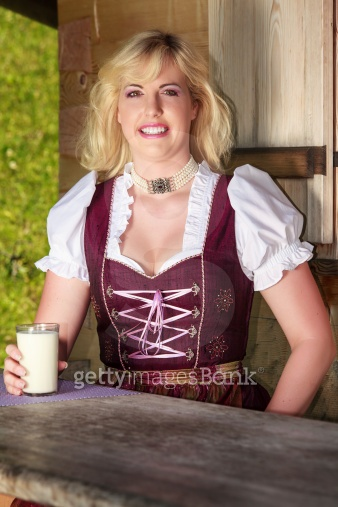glass of milk: (11, 322, 65, 404)
